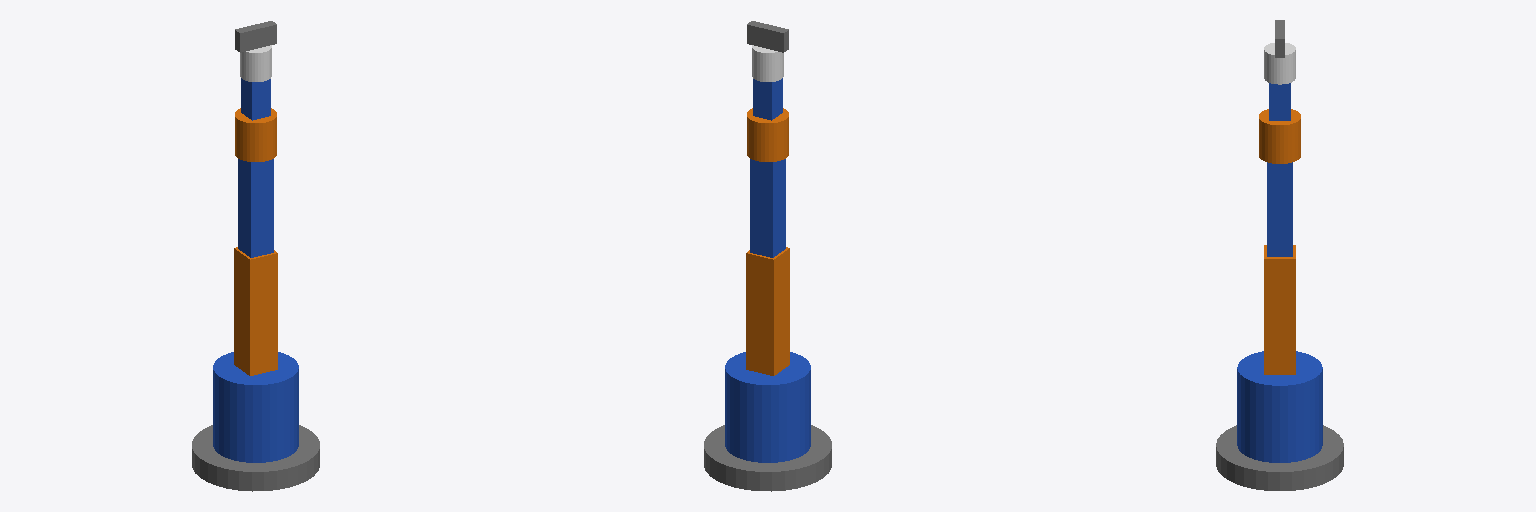
The robot description file, URDF, robot "simple_arm":
<?xml version="1.0"?>
<robot name="simple_arm">
  
  <!-- 颜色定义 -->
  <material name="blue">
    <color rgba="0.2 0.4 0.8 1.0"/>
  </material>
  <material name="orange">
    <color rgba="0.9 0.5 0.1 1.0"/>
  </material>
  <material name="grey">
    <color rgba="0.5 0.5 0.5 1.0"/>
  </material>
  <material name="white">
    <color rgba="0.9 0.9 0.9 1.0"/>
  </material>

  <!-- Base Link (固定底座) -->
  <link name="base_link">
    <visual>
      <geometry>
        <cylinder radius="0.06" length="0.02"/>
      </geometry>
      <origin xyz="0 0 0.01" rpy="0 0 0"/>
      <material name="grey"/>
    </visual>
  </link>

  <!-- Joint 1: 底座旋转 -->
  <joint name="joint_1" type="revolute">
    <parent link="base_link"/>
    <child link="link_1"/>
    <origin xyz="0 0 0.02" rpy="0 0 0"/>
    <axis xyz="0 0 1"/>
    <limit lower="-3.14159" upper="3.14159" effort="10" velocity="1"/>
  </joint>

  <link name="link_1">
    <visual>
      <geometry>
        <cylinder radius="0.04" length="0.08"/>
      </geometry>
      <origin xyz="0 0 0.04" rpy="0 0 0"/>
      <material name="blue"/>
    </visual>
  </link>

  <!-- Joint 2: 肩部 -->
  <joint name="joint_2" type="revolute">
    <parent link="link_1"/>
    <child link="link_2"/>
    <origin xyz="0 0 0.08" rpy="0 0 0"/>
    <axis xyz="0 1 0"/>
    <limit lower="-1.5708" upper="1.5708" effort="10" velocity="1"/>
  </joint>

  <link name="link_2">
    <visual>
      <geometry>
        <box size="0.03 0.03 0.12"/>
      </geometry>
      <origin xyz="0 0 0.06" rpy="0 0 0"/>
      <material name="orange"/>
    </visual>
  </link>

  <!-- Joint 3: 肘部 -->
  <joint name="joint_3" type="revolute">
    <parent link="link_2"/>
    <child link="link_3"/>
    <origin xyz="0 0 0.12" rpy="0 0 0"/>
    <axis xyz="0 1 0"/>
    <limit lower="-2.356" upper="2.356" effort="10" velocity="1"/>
  </joint>

  <link name="link_3">
    <visual>
      <geometry>
        <box size="0.025 0.025 0.10"/>
      </geometry>
      <origin xyz="0 0 0.05" rpy="0 0 0"/>
      <material name="blue"/>
    </visual>
  </link>

  <!-- Joint 4: 腕部旋转 -->
  <joint name="joint_4" type="revolute">
    <parent link="link_3"/>
    <child link="link_4"/>
    <origin xyz="0 0 0.10" rpy="0 0 0"/>
    <axis xyz="0 0 1"/>
    <limit lower="-3.14159" upper="3.14159" effort="5" velocity="1"/>
  </joint>

  <link name="link_4">
    <visual>
      <geometry>
        <cylinder radius="0.02" length="0.04"/>
      </geometry>
      <origin xyz="0 0 0.02" rpy="0 0 0"/>
      <material name="orange"/>
    </visual>
  </link>

  <!-- Joint 5: 腕部俯仰 -->
  <joint name="joint_5" type="revolute">
    <parent link="link_4"/>
    <child link="link_5"/>
    <origin xyz="0 0 0.04" rpy="0 0 0"/>
    <axis xyz="0 1 0"/>
    <limit lower="-1.5708" upper="1.5708" effort="5" velocity="1"/>
  </joint>

  <link name="link_5">
    <visual>
      <geometry>
        <box size="0.02 0.02 0.04"/>
      </geometry>
      <origin xyz="0 0 0.02" rpy="0 0 0"/>
      <material name="blue"/>
    </visual>
  </link>

  <!-- Joint 6: 末端旋转 -->
  <joint name="joint_6" type="revolute">
    <parent link="link_5"/>
    <child link="link_6"/>
    <origin xyz="0 0 0.04" rpy="0 0 0"/>
    <axis xyz="0 0 1"/>
    <limit lower="-3.14159" upper="3.14159" effort="5" velocity="1"/>
  </joint>

  <link name="link_6">
    <visual>
      <geometry>
        <cylinder radius="0.015" length="0.03"/>
      </geometry>
      <origin xyz="0 0 0.015" rpy="0 0 0"/>
      <material name="white"/>
    </visual>
  </link>

  <!-- 末端执行器（夹爪） -->
  <joint name="gripper_joint" type="fixed">
    <parent link="link_6"/>
    <child link="gripper_link"/>
    <origin xyz="0 0 0.03" rpy="0 0 0"/>
  </joint>

  <link name="gripper_link">
    <visual>
      <geometry>
        <box size="0.04 0.01 0.02"/>
      </geometry>
      <origin xyz="0 0 0.01" rpy="0 0 0"/>
      <material name="grey"/>
    </visual>
  </link>

</robot>

--- What the picture shows (computed from the rendered views, not written in the file) ---
Views: 3 orthographic renders of the robot side by side, from view 1: azimuth 30°, elevation 25°; view 2: azimuth 150°, elevation 25°; view 3: azimuth 270°, elevation 25°.
Model simple_arm with 8 links and 7 joints (6 revolute, 1 fixed), rooted at base_link, posed all joints at 0.
Visible links, largest first — view 1: link_1, link_2, base_link, link_3, link_4, link_5, link_6, gripper_link; view 2: link_1, link_2, base_link, link_3, link_4, link_5, link_6, gripper_link; view 3: link_1, base_link, link_2, link_3, link_4, link_6, link_5.
Boxes of the visible links, box(x1,y1,x2,y2) form: link_1: box(213, 352, 298, 462); link_2: box(234, 247, 277, 375); base_link: box(192, 425, 319, 491); link_3: box(238, 159, 273, 257); link_4: box(235, 108, 276, 161); link_5: box(241, 78, 270, 120); link_6: box(240, 45, 271, 81); gripper_link: box(235, 21, 276, 52); link_1: box(725, 352, 810, 462); link_2: box(746, 247, 789, 375); base_link: box(704, 425, 831, 491); link_3: box(750, 159, 785, 257); link_4: box(747, 108, 788, 161); link_5: box(753, 78, 782, 120); link_6: box(752, 45, 783, 81); gripper_link: box(747, 21, 788, 52); link_1: box(1237, 351, 1322, 462); base_link: box(1216, 425, 1343, 490); link_2: box(1264, 245, 1295, 374); link_3: box(1267, 162, 1292, 256); link_4: box(1259, 109, 1300, 163); link_6: box(1264, 43, 1295, 84); link_5: box(1269, 83, 1290, 120).
Bounding box of the posed robot: 0.12 × 0.12 × 0.45 m (x, y, z).
Geometry: primitives only (box / cylinder / sphere), no mesh files.
